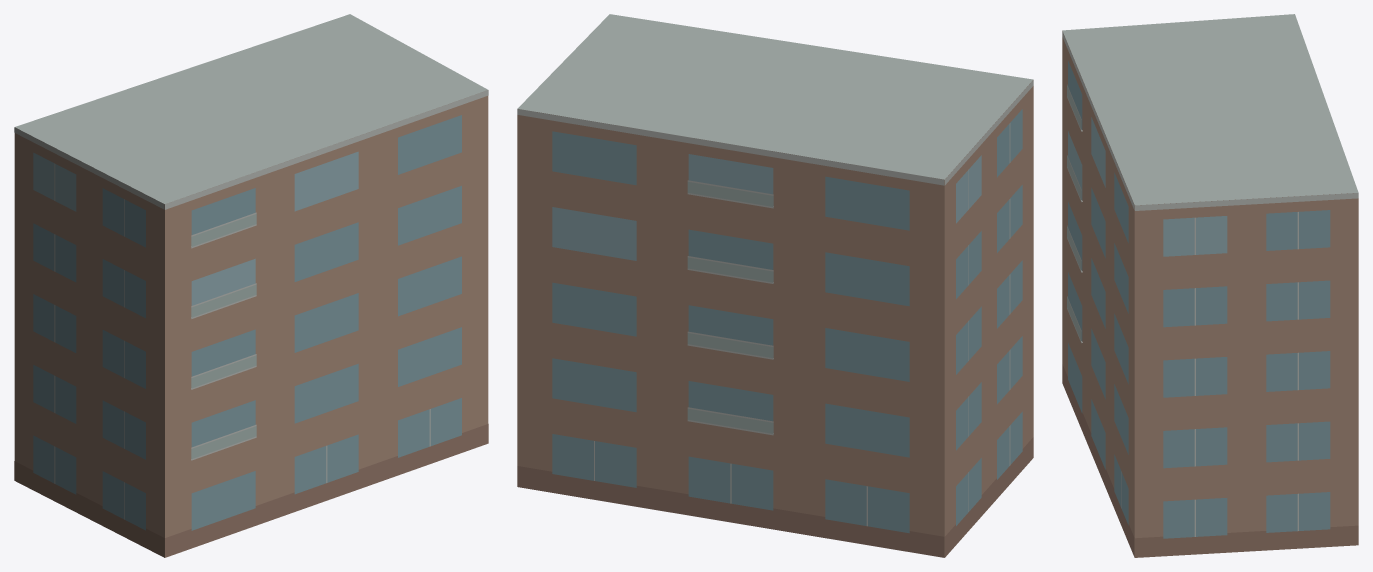
The model's file is survey-upis-32782984.glb.
The picture shows the model from 3 angles, left to right: view 1: azimuth 30°, elevation 25°; view 2: azimuth 150°, elevation 25°; view 3: azimuth 270°, elevation 25°; orthographic projection. The views are drawn at different scales.
Parts seen in each view (by area): view 1: survey-upis-32782984.tmp; view 2: survey-upis-32782984.tmp; view 3: survey-upis-32782984.tmp.
Part boxes in pixels (x1=…): survey-upis-32782984.tmp: x1=14, y1=14, x2=488, y2=557; survey-upis-32782984.tmp: x1=517, y1=14, x2=1033, y2=557; survey-upis-32782984.tmp: x1=1062, y1=14, x2=1358, y2=557.
Size of the model in its own units: 17.77 by 15.25 by 11.63.
